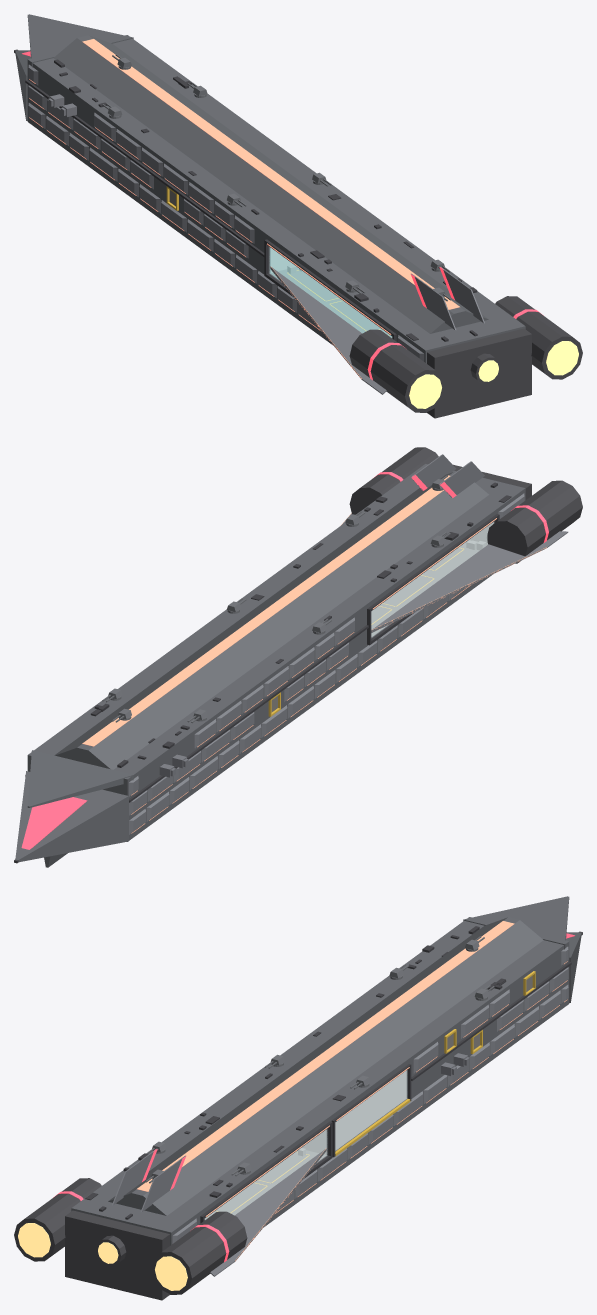
Rendered from ship_LARGE_v1.glb.
3 renders of one model, top to bottom at view 1: azimuth 30°, elevation 25°; view 2: azimuth 150°, elevation 25°; view 3: azimuth 330°, elevation 25°, orthographic.
Parts seen in each view (by area): view 1: LARGE_Hull-col, LARGE_Armor, LARGE_Engines, LARGE_Lights, LARGE_Trim, LARGE_EngineGlow, LARGE_HangarShield_Port, LARGE_Decks-col, LARGE_Details, LARGE_Accent; view 2: LARGE_Hull-col, LARGE_Armor, LARGE_Engines, LARGE_Lights, LARGE_HangarShield_Port, LARGE_Trim, LARGE_Accent, LARGE_Decks-col, LARGE_Details; view 3: LARGE_Hull-col, LARGE_Engines, LARGE_Armor, LARGE_Lights, LARGE_Trim, LARGE_EngineGlow, LARGE_CargoBayShield, LARGE_CargoBayDoor-col, LARGE_HangarShield_Starboard, LARGE_Decks-col, LARGE_Hazard, LARGE_Details (+1 smaller).
Boxes of the visible parts, bbox=[...] form: LARGE_Hull-col: bbox=[15, 14, 525, 412]; LARGE_Armor: bbox=[28, 64, 484, 394]; LARGE_Engines: bbox=[14, 49, 582, 418]; LARGE_Lights: bbox=[29, 39, 459, 378]; LARGE_Trim: bbox=[25, 80, 396, 341]; LARGE_EngineGlow: bbox=[409, 341, 578, 408]; LARGE_HangarShield_Port: bbox=[269, 247, 392, 337]; LARGE_Decks-col: bbox=[271, 267, 392, 337]; LARGE_Details: bbox=[54, 59, 477, 341]; LARGE_Accent: bbox=[22, 51, 543, 380]; LARGE_Hull-col: bbox=[15, 464, 525, 867]; LARGE_Armor: bbox=[129, 454, 568, 834]; LARGE_Engines: bbox=[14, 447, 582, 863]; LARGE_Lights: bbox=[82, 475, 546, 833]; LARGE_HangarShield_Port: bbox=[371, 522, 493, 636]; LARGE_Trim: bbox=[25, 514, 499, 802]; LARGE_Accent: bbox=[21, 472, 548, 849]; LARGE_Decks-col: bbox=[371, 541, 479, 635]; LARGE_Details: bbox=[90, 482, 511, 767]; LARGE_Hull-col: bbox=[71, 896, 581, 1294]; LARGE_Engines: bbox=[14, 931, 582, 1300]; LARGE_Armor: bbox=[112, 946, 568, 1276]; LARGE_Lights: bbox=[137, 921, 567, 1261]; LARGE_Trim: bbox=[200, 962, 571, 1223]; LARGE_EngineGlow: bbox=[18, 1223, 187, 1290]; LARGE_CargoBayShield: bbox=[335, 1070, 407, 1150]; LARGE_CargoBayDoor-col: bbox=[335, 1071, 406, 1149]; LARGE_HangarShield_Starboard: bbox=[204, 1129, 327, 1219]; LARGE_Decks-col: bbox=[204, 1150, 325, 1219]; LARGE_Hazard: bbox=[207, 971, 535, 1217]; LARGE_Details: bbox=[85, 926, 506, 1219].
Bounding box in the file's own units: 40.71 × 22.95 × 182.
